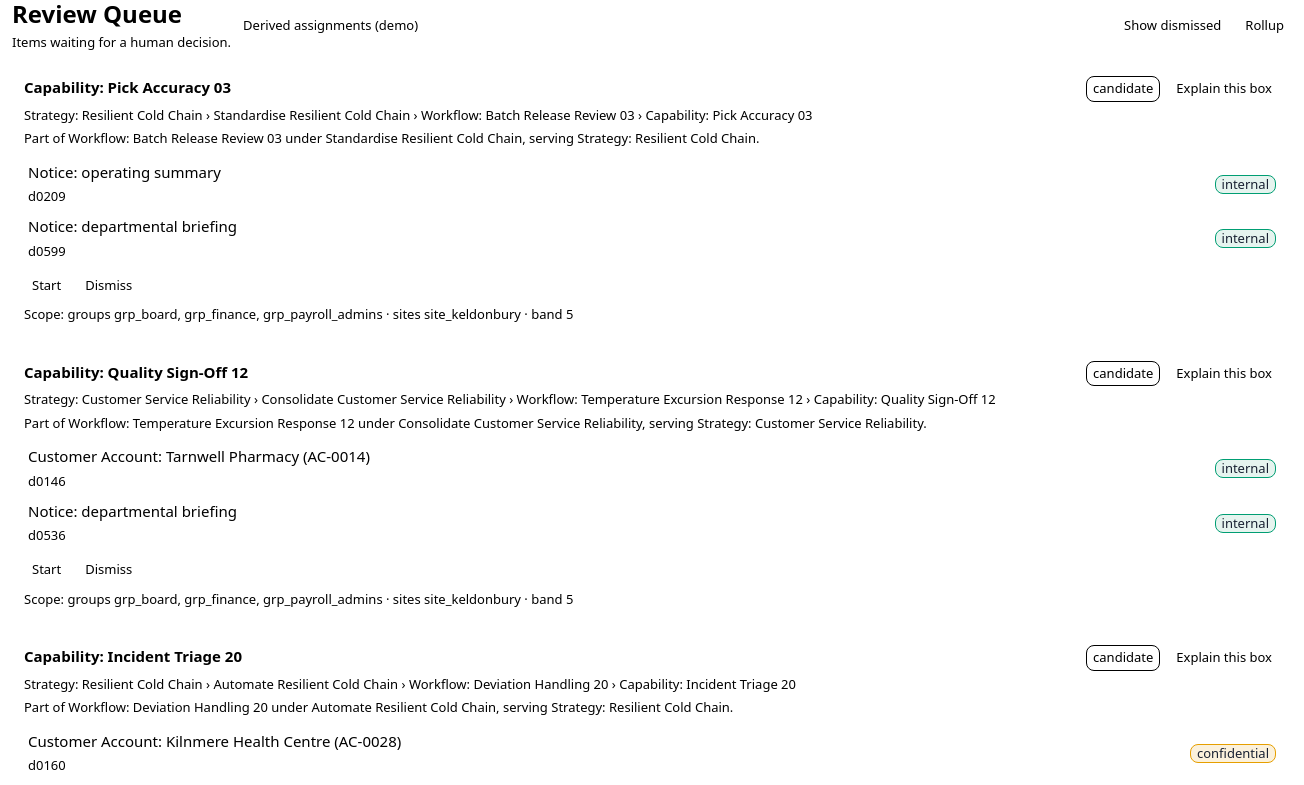
it: U-27: the rollup holds the floor and the honesty statement › sub-floor capabilities are absent; the statement is byte-exact; no names
The image size is (1304, 785).
Step 1. Click the button with test id "rollup-toggle" → x=1265, y=26, box [1237,14,1292,38]
(page scrolled)
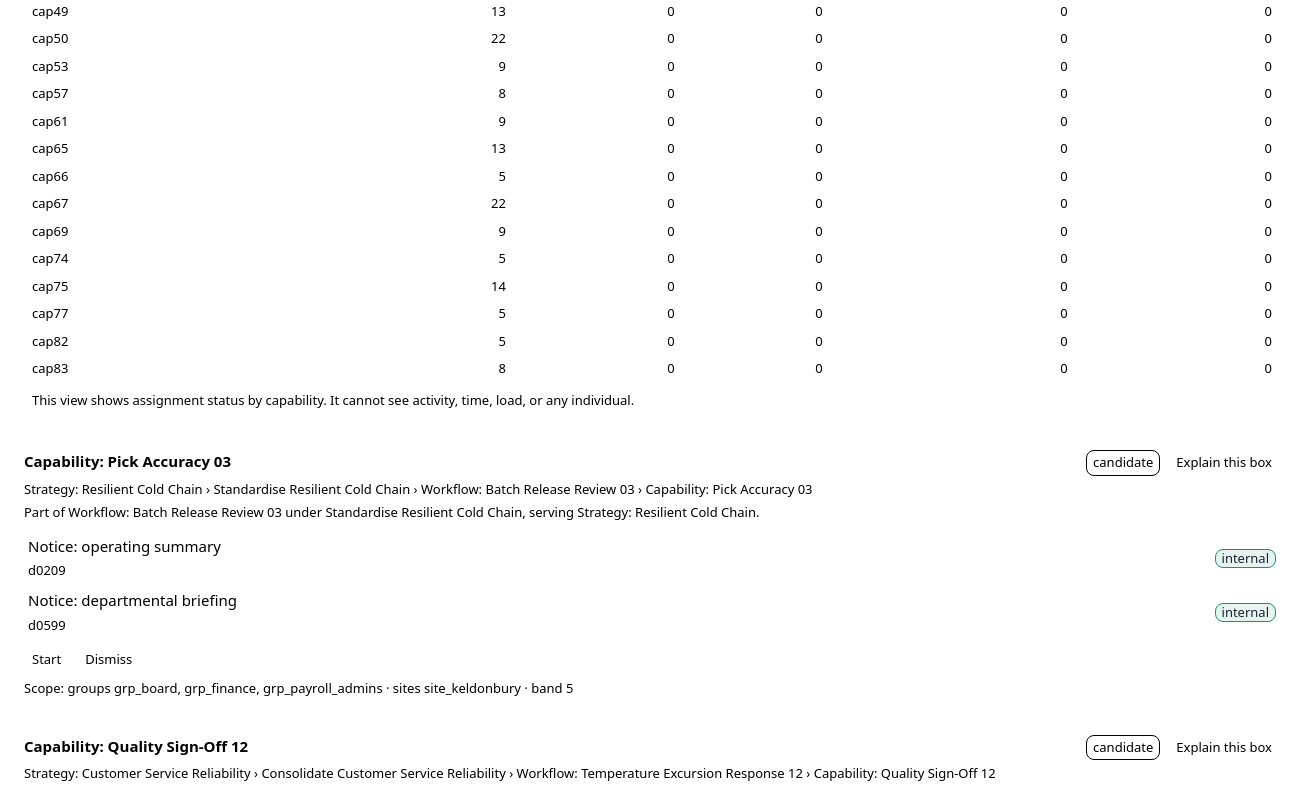
expect the text with test id "rollup-honesty" shows "This view shows assignment status by capability. It cannot see activity, time, load, or any individual.": met, box [32,391,634,409]
